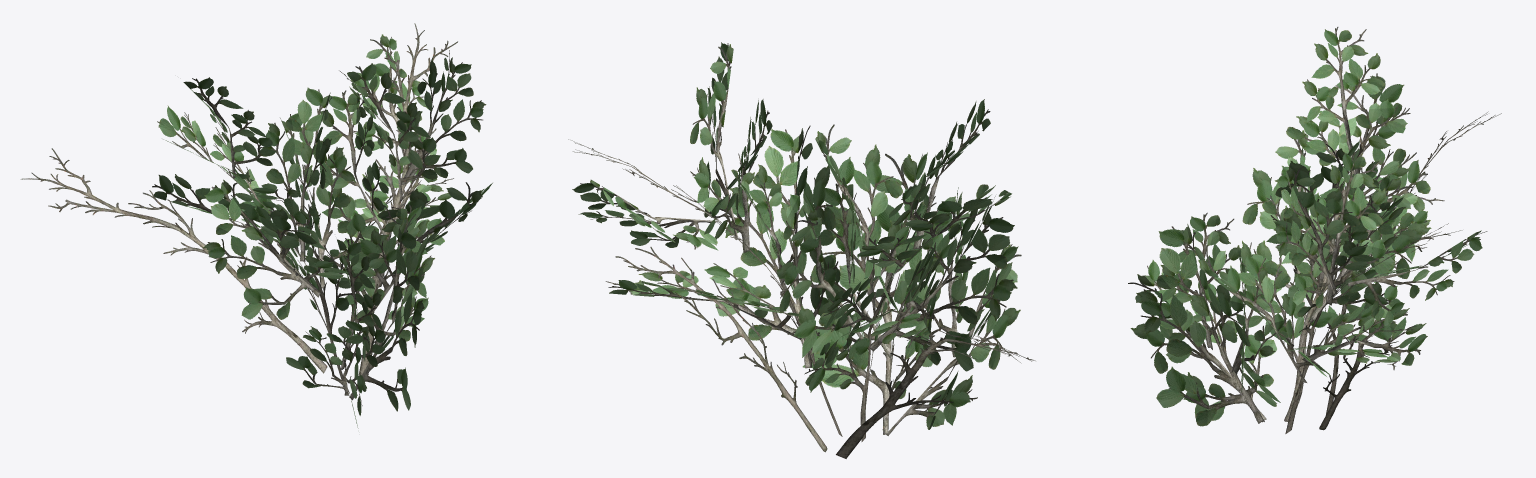
Rendered from Bush - Bush3-Bm-7hU9E.glb.
3 renders of one model, left to right at view 1: azimuth 30°, elevation 25°; view 2: azimuth 150°, elevation 25°; view 3: azimuth 270°, elevation 25°, orthographic. The views are drawn at different scales.
Visible parts, largest first — view 1: Bush3_LOD0; view 2: Bush3_LOD0; view 3: Bush3_LOD0.
Boxes of the visible parts, left/top/right/bottom form: Bush3_LOD0: left=20, top=23, right=492, bottom=428; Bush3_LOD0: left=568, top=42, right=1035, bottom=458; Bush3_LOD0: left=1128, top=27, right=1501, bottom=433.
Bounding box in the file's own units: 2.18 × 1.87 × 1.93.
1 material, 1 textured.
